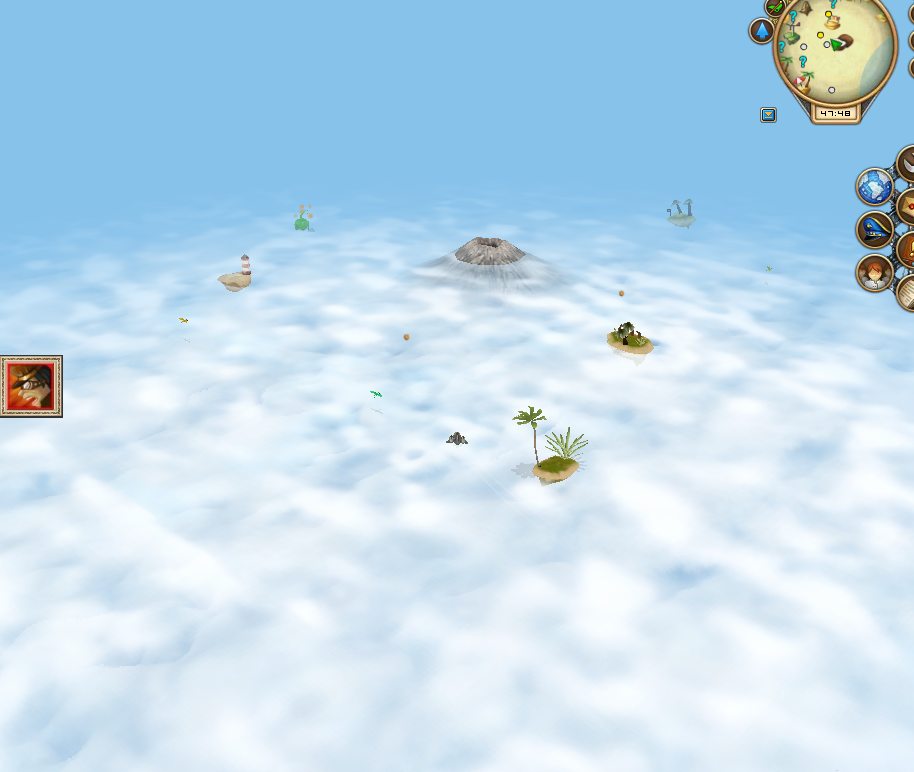coconut: (400, 331, 413, 343), (616, 287, 626, 300)
dandelion-full: (292, 203, 314, 234)
palm: (512, 403, 591, 492)
